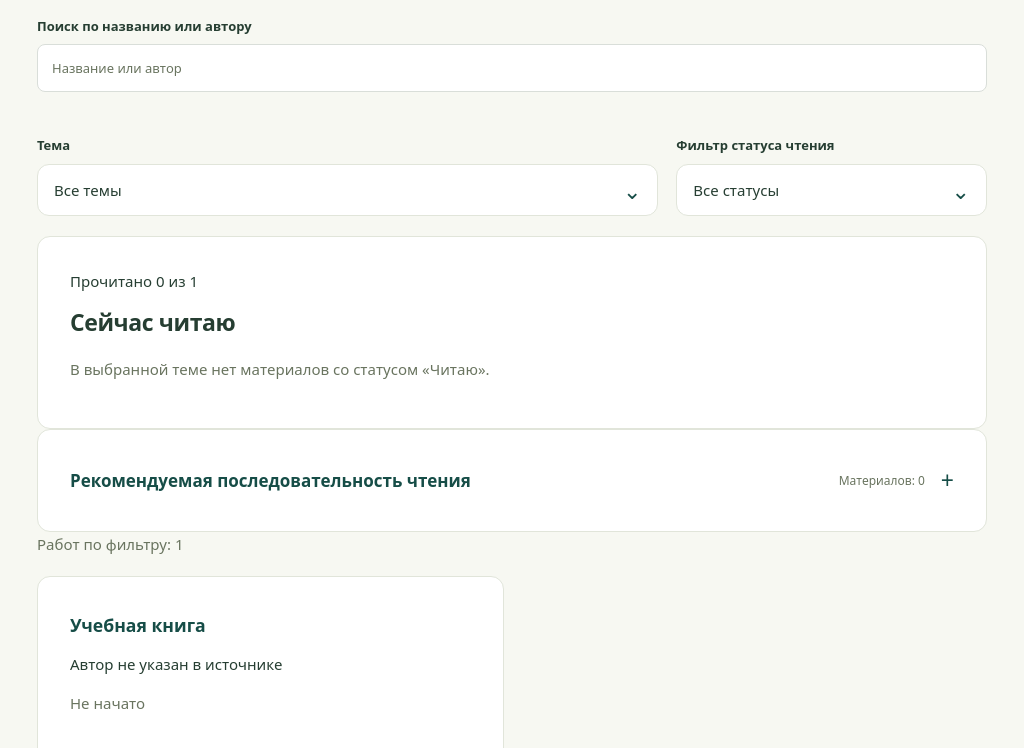
Test: opens reviewed text and audio offers externally without promising a subscription
(page scrolled)
Click the button "Учебная книга": [138, 625] box [70, 609, 206, 642]
(page scrolled)
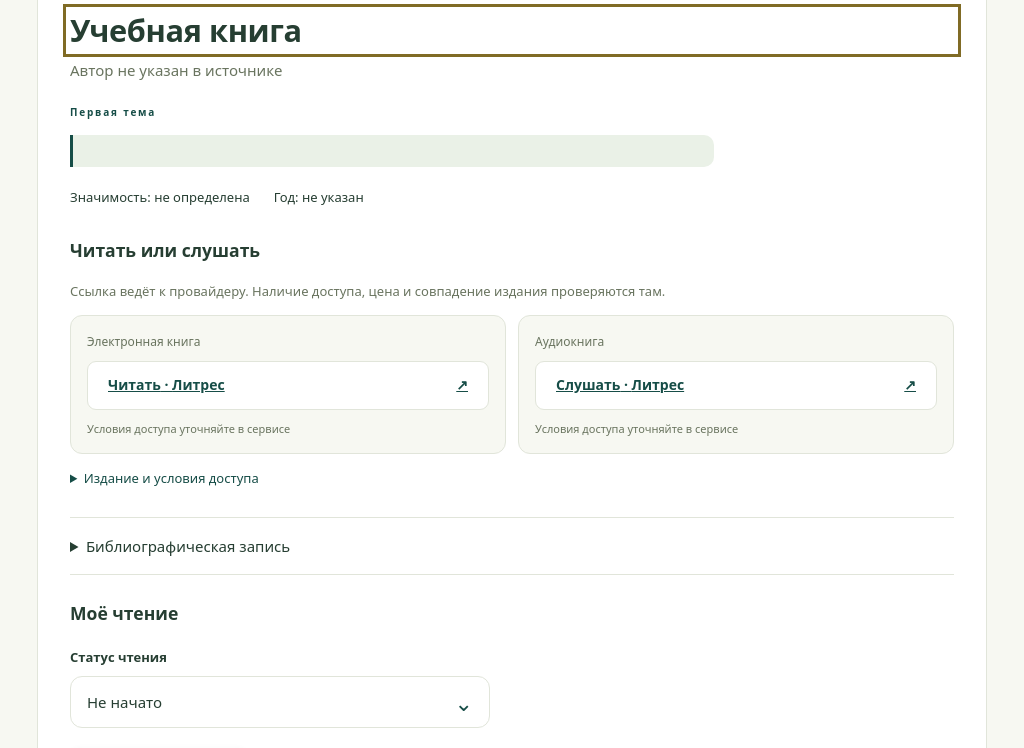
Check: the text "Наличие доступа, цена и совпадение издания проверяются там" is shown, box [70, 282, 665, 300]
